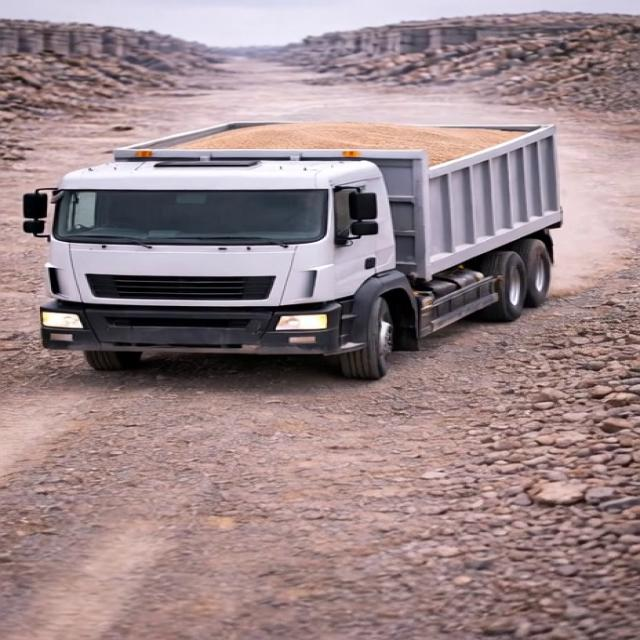trailer: (110, 120, 554, 172)
truck: (16, 98, 572, 376)
